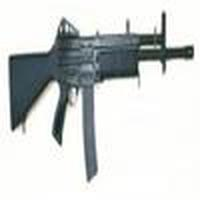gun: (3, 18, 198, 153)
